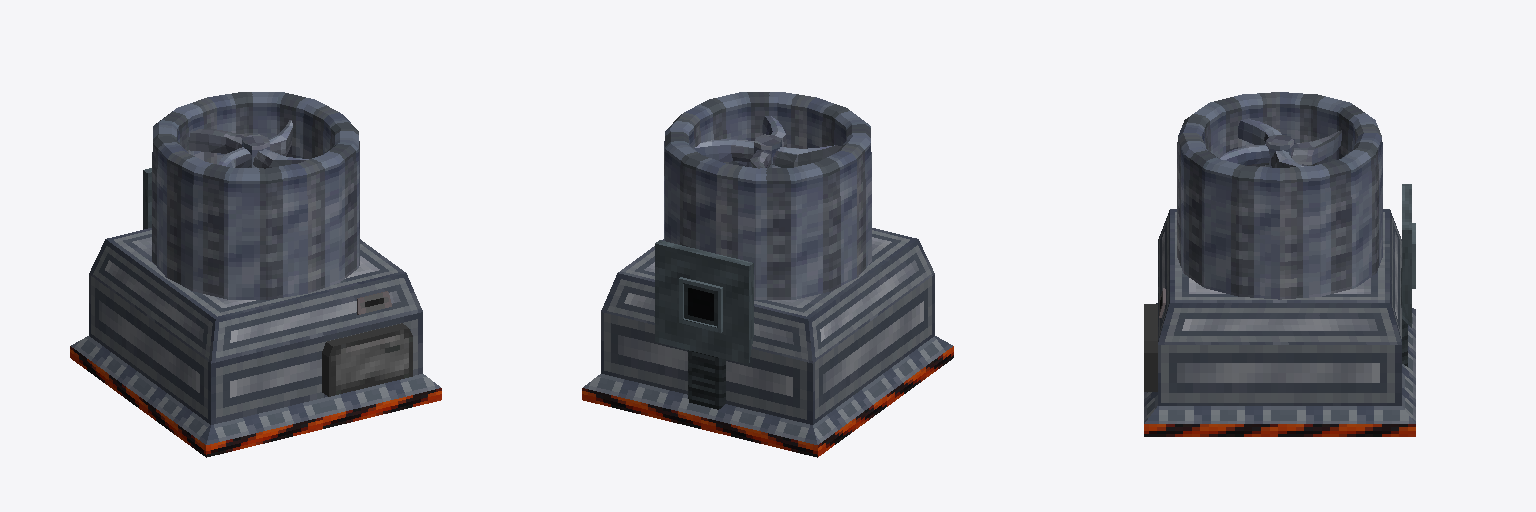
The picture shows the model from 3 angles: view 1: azimuth 30°, elevation 25°; view 2: azimuth 150°, elevation 25°; view 3: azimuth 270°, elevation 25°; orthographic projection.
Visible parts, largest first — view 1: Furnace_Crusher; view 2: Furnace_Crusher; view 3: Furnace_Crusher.
Part boxes in pixels (x1,y1,x2,y2): Furnace_Crusher: (70,92,441,457); Furnace_Crusher: (582,92,953,457); Furnace_Crusher: (1144,92,1415,436).
Bounding box in the file's own units: 2 × 2 × 2.
1 materials, 1 textured.